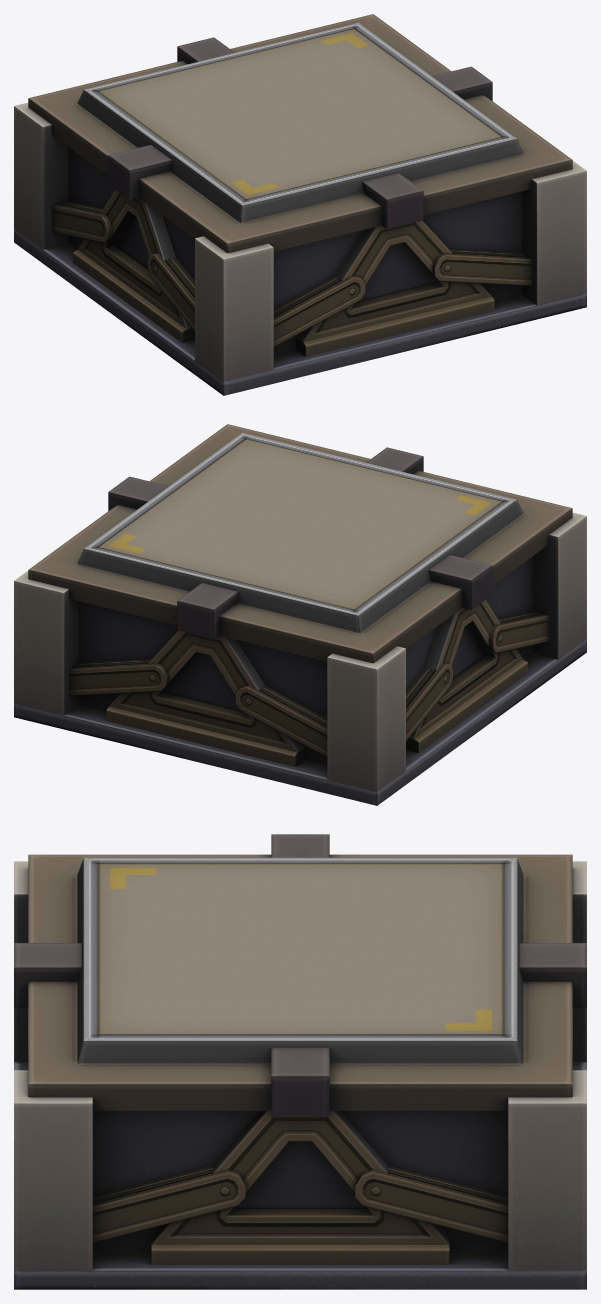
The model's file is trap_150_muwall.fbx.
3 views of the same model, one above another, from view 1: azimuth 30°, elevation 25°; view 2: azimuth 150°, elevation 25°; view 3: azimuth 270°, elevation 25° (orthographic). The views are drawn at different scales.
Parts seen in each view (by area): view 1: trap_150_muwall; view 2: trap_150_muwall; view 3: trap_150_muwall.
Boxes of the visible parts, x1=… form: trap_150_muwall: x1=14, y1=14, x2=586, y2=395; trap_150_muwall: x1=14, y1=424, x2=586, y2=805; trap_150_muwall: x1=14, y1=834, x2=586, y2=1289.
Size of the model in its own units: 1 by 0.4225 by 1.
1 material, 1 textured.
